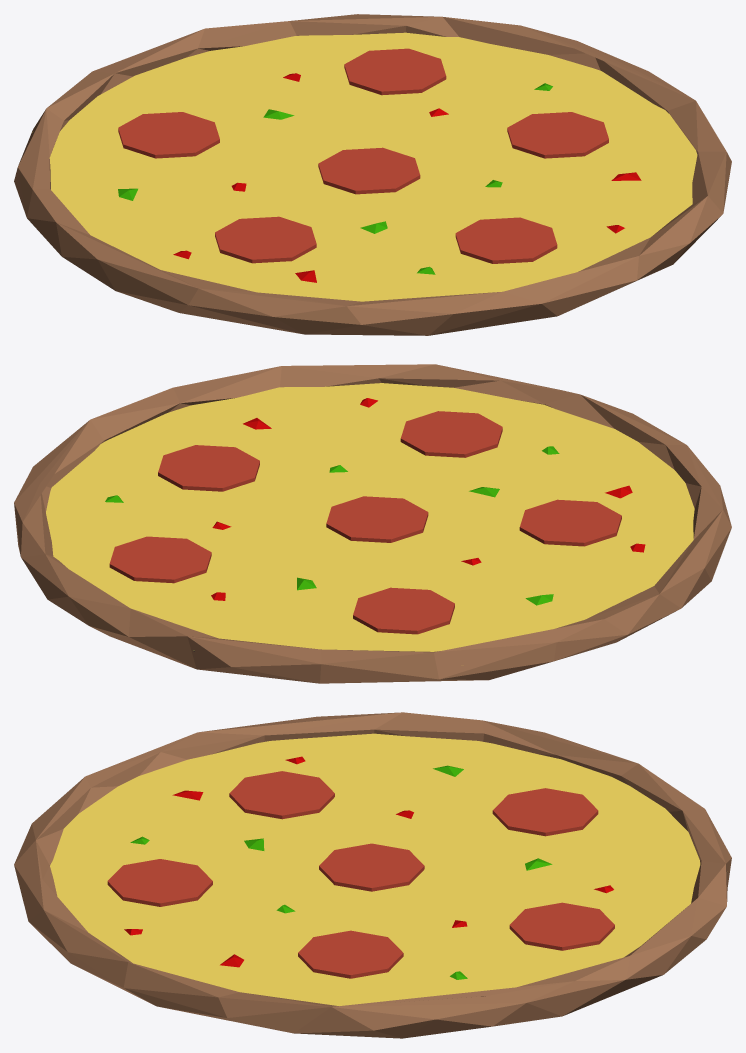
File: Pizza.fbx
3 views of the same model, one above another, from view 1: azimuth 30°, elevation 25°; view 2: azimuth 150°, elevation 25°; view 3: azimuth 270°, elevation 25° (orthographic).
Visible parts, largest first — view 1: Pizza; view 2: Pizza; view 3: Pizza.
Part boxes in pixels (x1,y1,x2,y2): Pizza: (14,14,731,335); Pizza: (14,364,731,683); Pizza: (14,712,731,1038).
Bounding box in the file's own units: 81.22 × 4.25 × 81.08.
